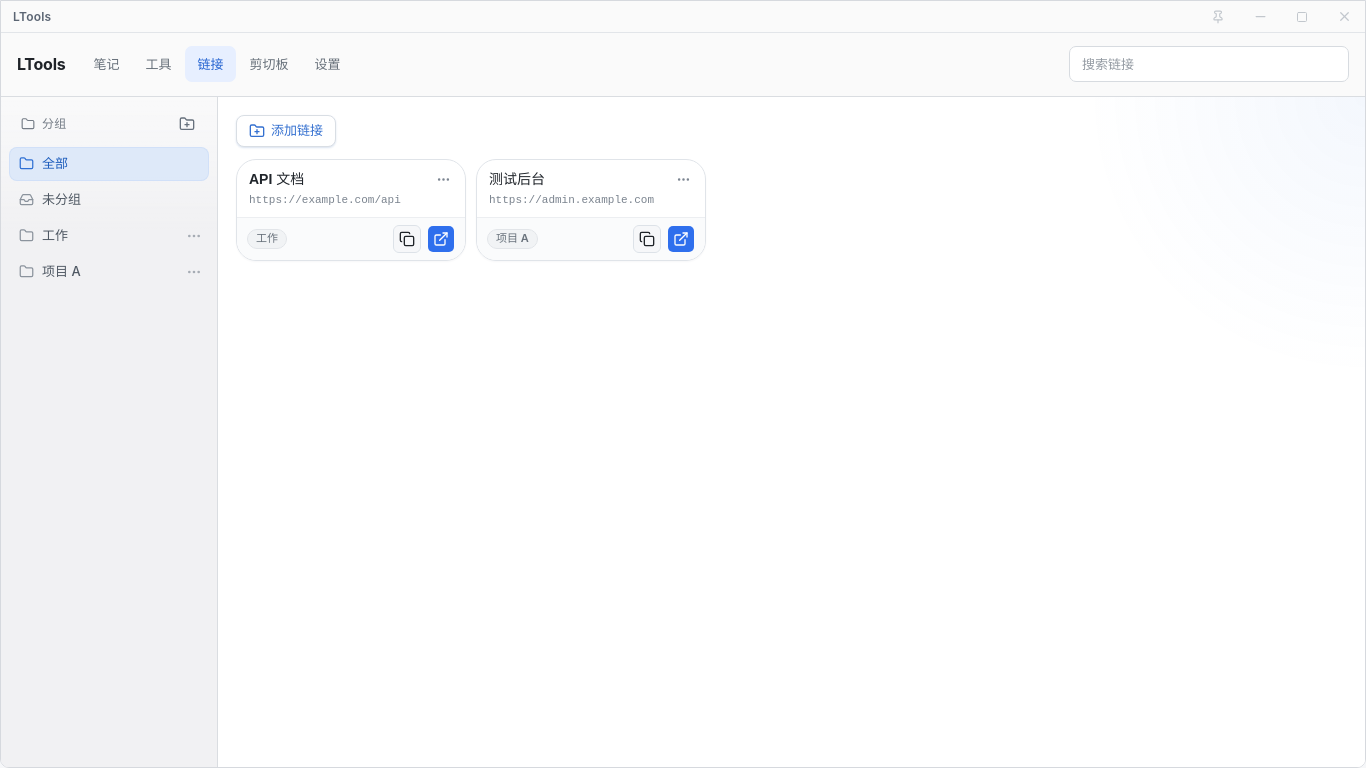
Scenario: shared group management › creates a group from the shared dialog
The width and height of the screenshot is (1366, 768).
Click the button named "新建分组": (187, 124) [173,110,201,138]
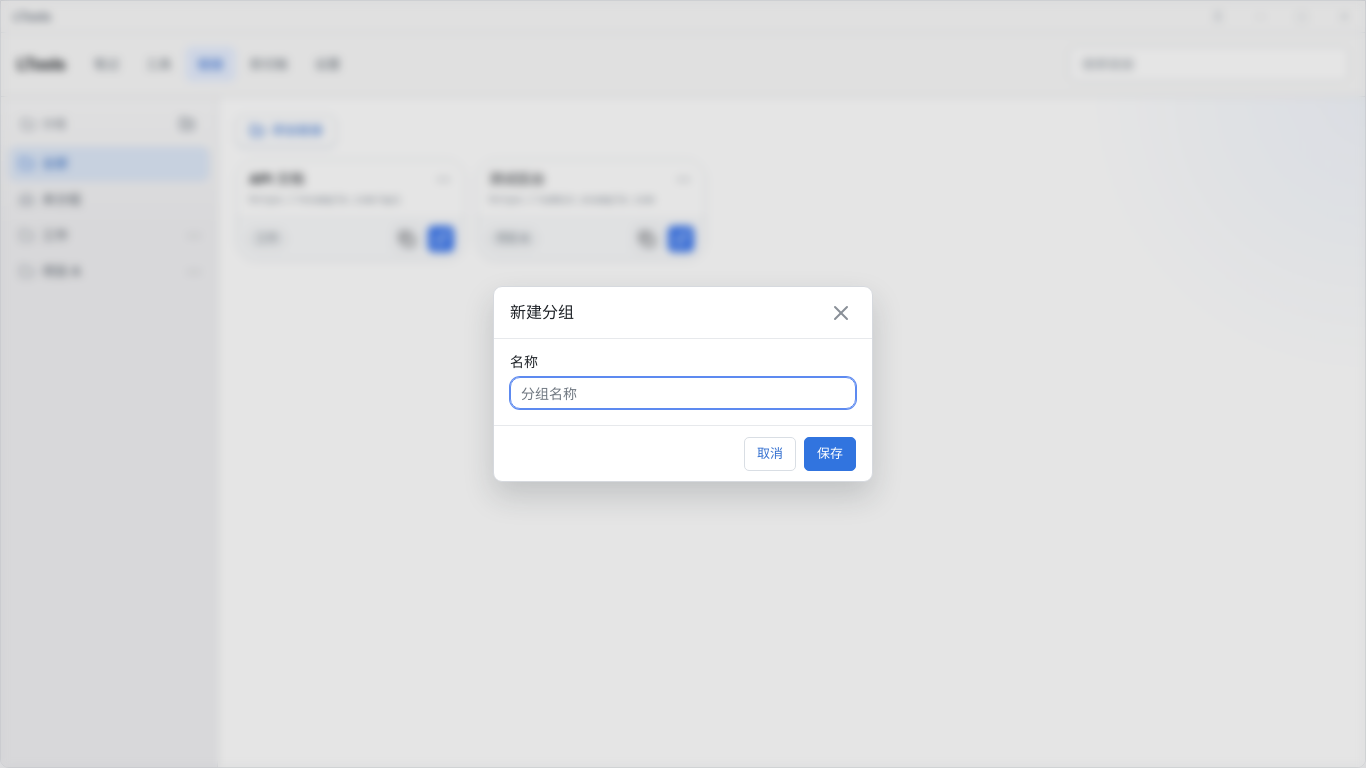
In the field labelled "名称": (683, 393) [510,377,856,409], type "学习"
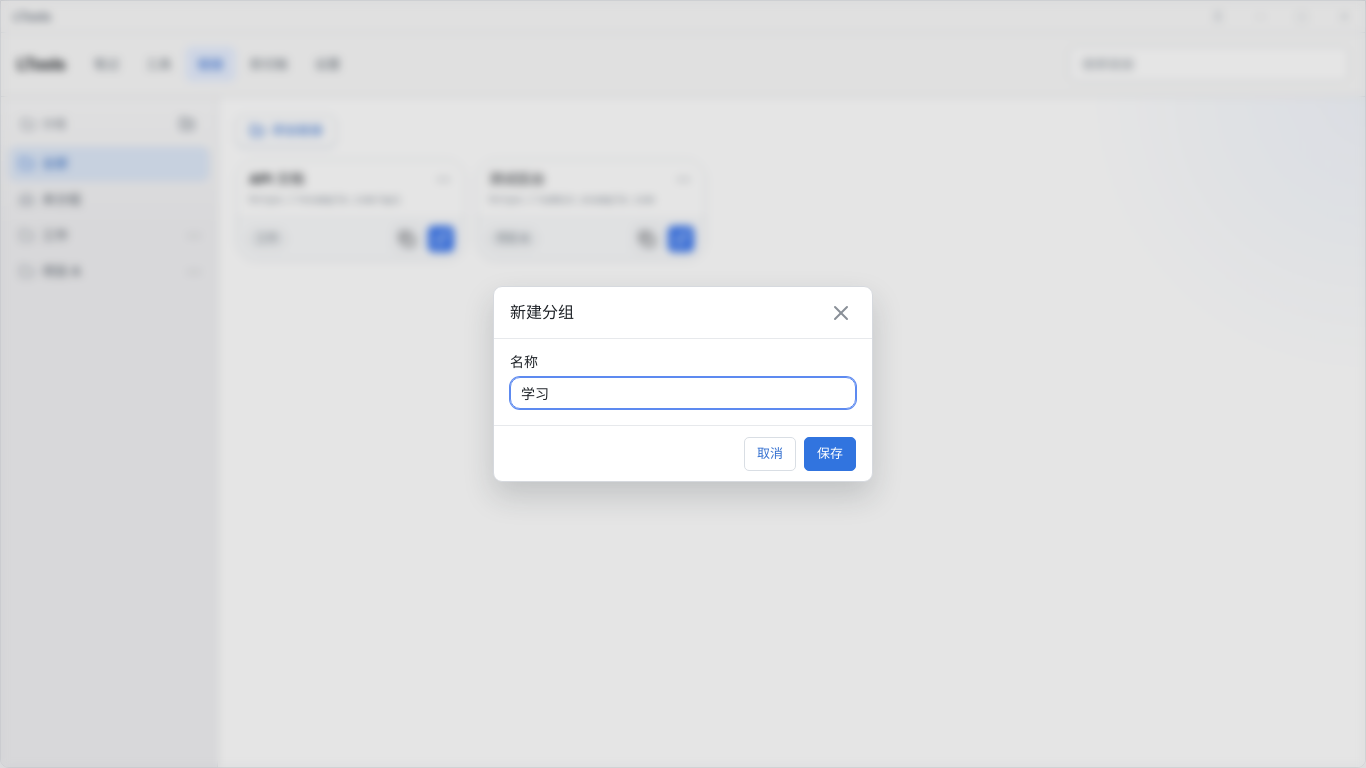
Click the button "保存": (830, 454) [804,436,856,470]
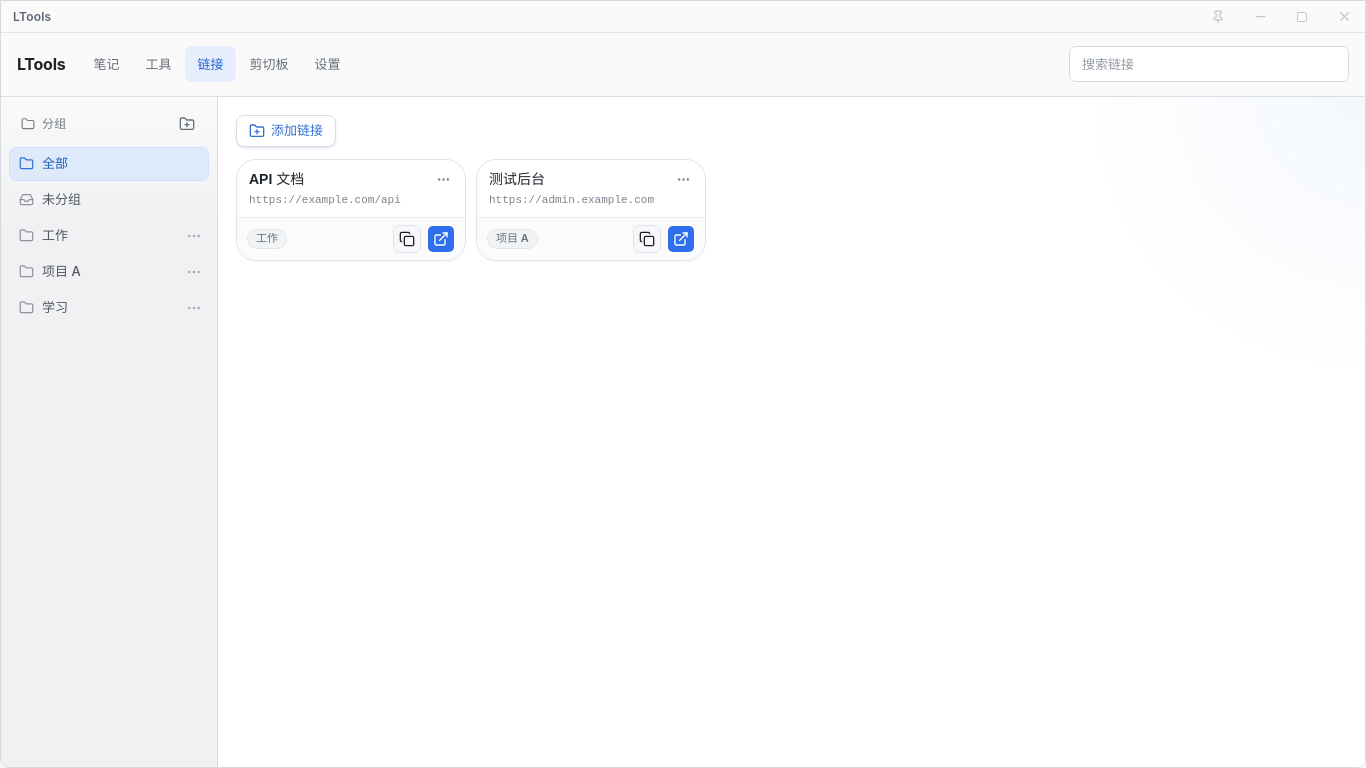
expect the button "学习" is shown: met, box [9,291,181,325]
